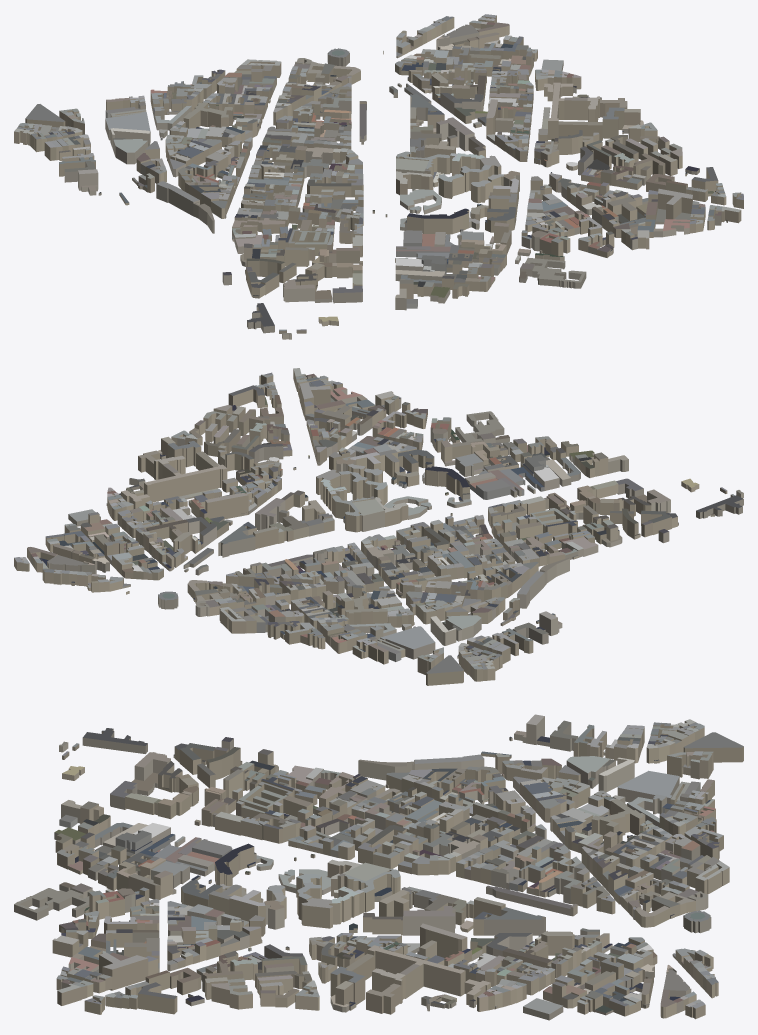
The picture shows the model from 3 angles, top to bottom: view 1: azimuth 30°, elevation 25°; view 2: azimuth 150°, elevation 25°; view 3: azimuth 270°, elevation 25°; orthographic projection. The views are drawn at different scales.
Visible parts, largest first — view 1: tuile; view 2: tuile; view 3: tuile.
Boxes of the visible parts, x1,y1,x2,y2 form: tuile: (14,14,743,339); tuile: (14,368,743,685); tuile: (14,714,743,1020).
Bounding box in the file's own units: 1058 × 63.81 × 1115.
